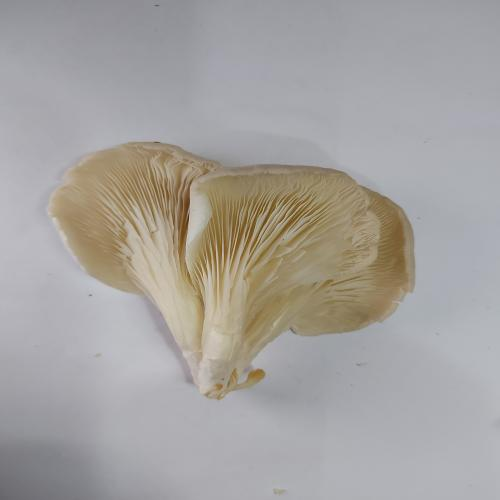Oyster Mushroom: (46, 140, 417, 401)
